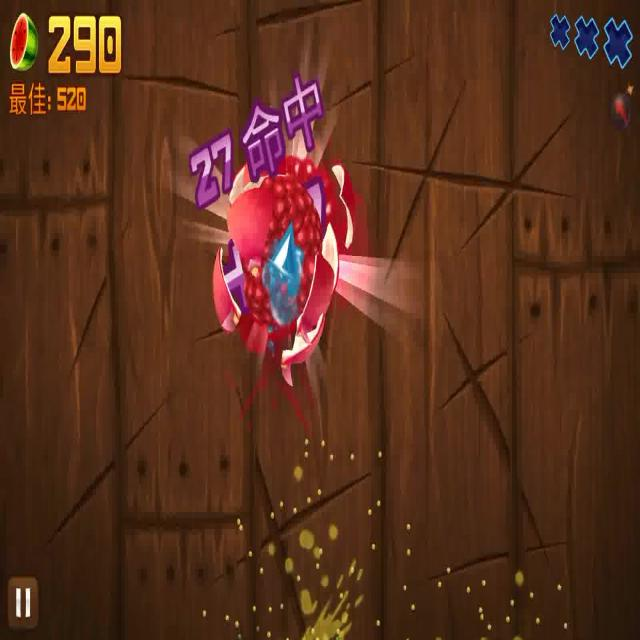fruit: (210, 162, 356, 370)
